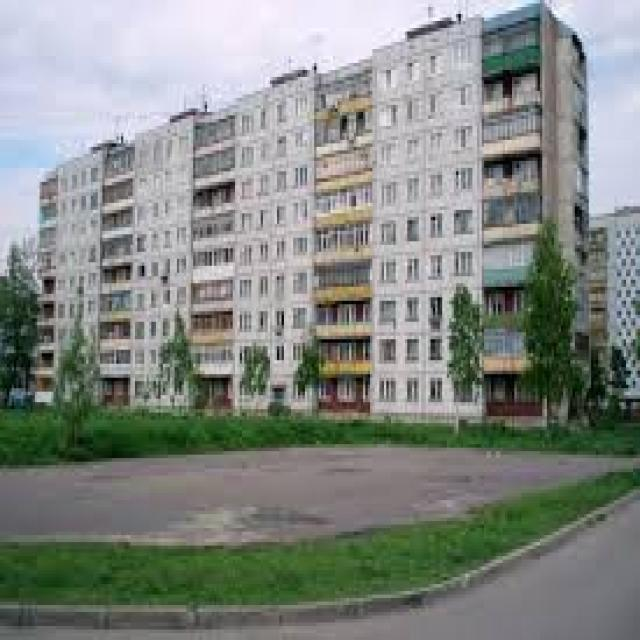window: (452, 161, 470, 196), (377, 220, 396, 252), (377, 259, 398, 287), (403, 370, 419, 406), (377, 186, 398, 213), (454, 77, 472, 108), (456, 42, 473, 73), (456, 210, 473, 238), (456, 252, 473, 280), (377, 301, 396, 325), (379, 66, 394, 95), (426, 56, 444, 80), (428, 255, 445, 280), (402, 298, 417, 326), (428, 294, 442, 322), (408, 339, 422, 367), (384, 102, 398, 130), (382, 140, 396, 168), (403, 70, 421, 91), (379, 339, 396, 360), (431, 206, 442, 238), (428, 175, 442, 199), (377, 381, 393, 402), (405, 143, 417, 168), (428, 339, 442, 360), (428, 91, 438, 119), (459, 122, 470, 147), (431, 133, 442, 157), (431, 378, 442, 402), (407, 262, 419, 284), (405, 102, 414, 130), (407, 220, 417, 242), (410, 182, 419, 199)
